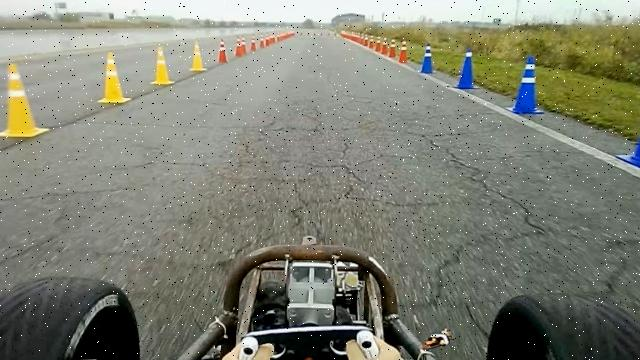blue cone: (508, 55, 545, 114), (615, 112, 640, 170), (454, 47, 480, 89), (420, 42, 436, 74)
red cone: (217, 37, 230, 64), (234, 36, 248, 58), (398, 40, 408, 63), (388, 38, 397, 58), (250, 35, 257, 52)
yellow cone: (0, 62, 50, 138), (97, 51, 131, 104), (150, 45, 175, 85), (190, 38, 208, 72)
